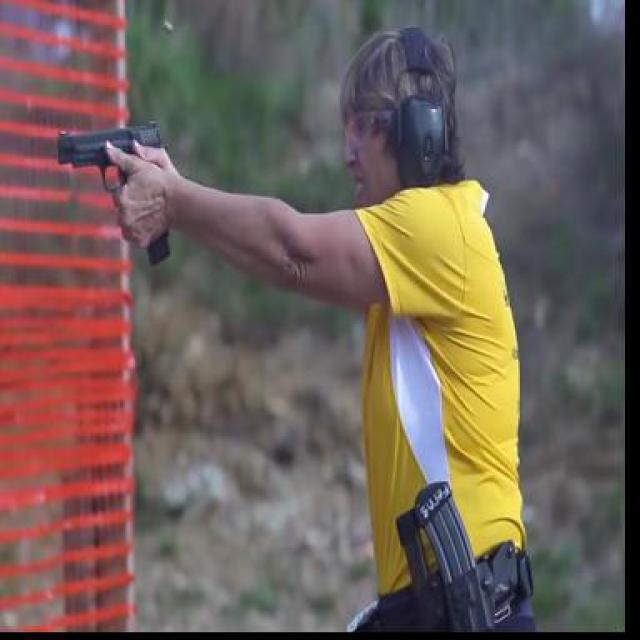gun: (50, 120, 177, 262)
